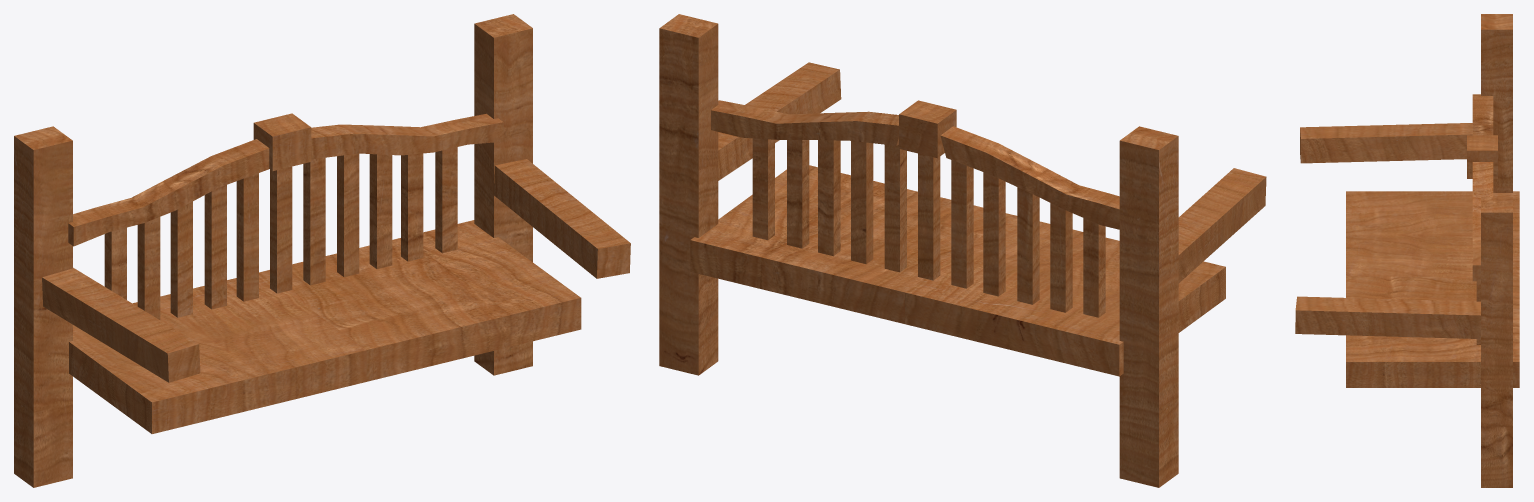
The model's file is Bench.fbx.
3 renders of one model, left to right at view 1: azimuth 30°, elevation 25°; view 2: azimuth 150°, elevation 25°; view 3: azimuth 270°, elevation 25°, orthographic. The views are drawn at different scales.
Visible parts, largest first — view 1: pCube23; view 2: pCube23; view 3: pCube23.
Boxes of the visible parts, left/top/right/bottom form: pCube23: left=14, top=14, right=630, bottom=487; pCube23: left=659, top=14, right=1266, bottom=487; pCube23: left=1295, top=14, right=1519, bottom=487.
Bounding box in the file's own units: 2 × 1.29 × 0.9533.
1 material, 1 textured.
